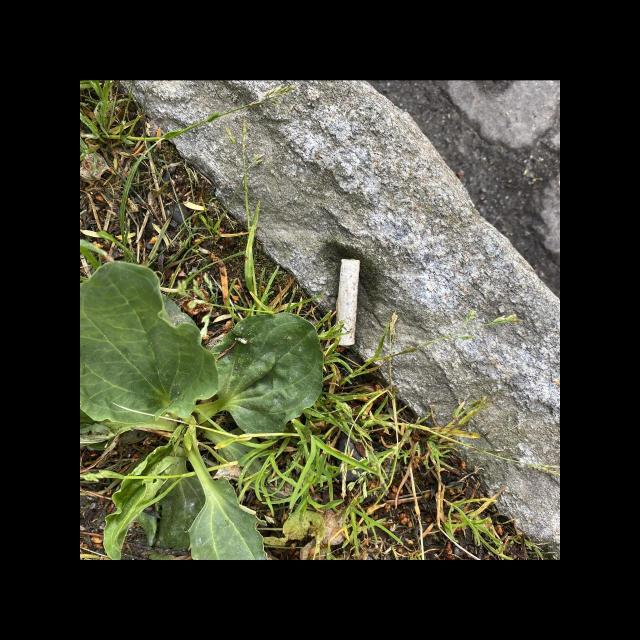cigarette: (334, 258, 362, 346)
